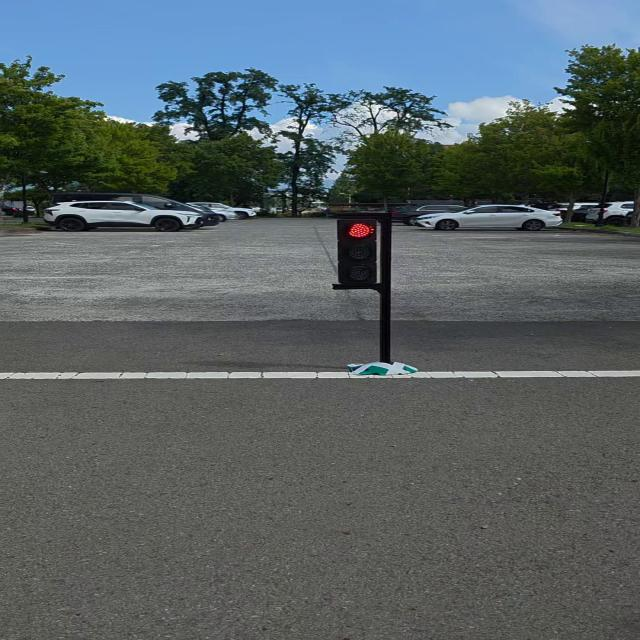red: (322, 210, 401, 294)
